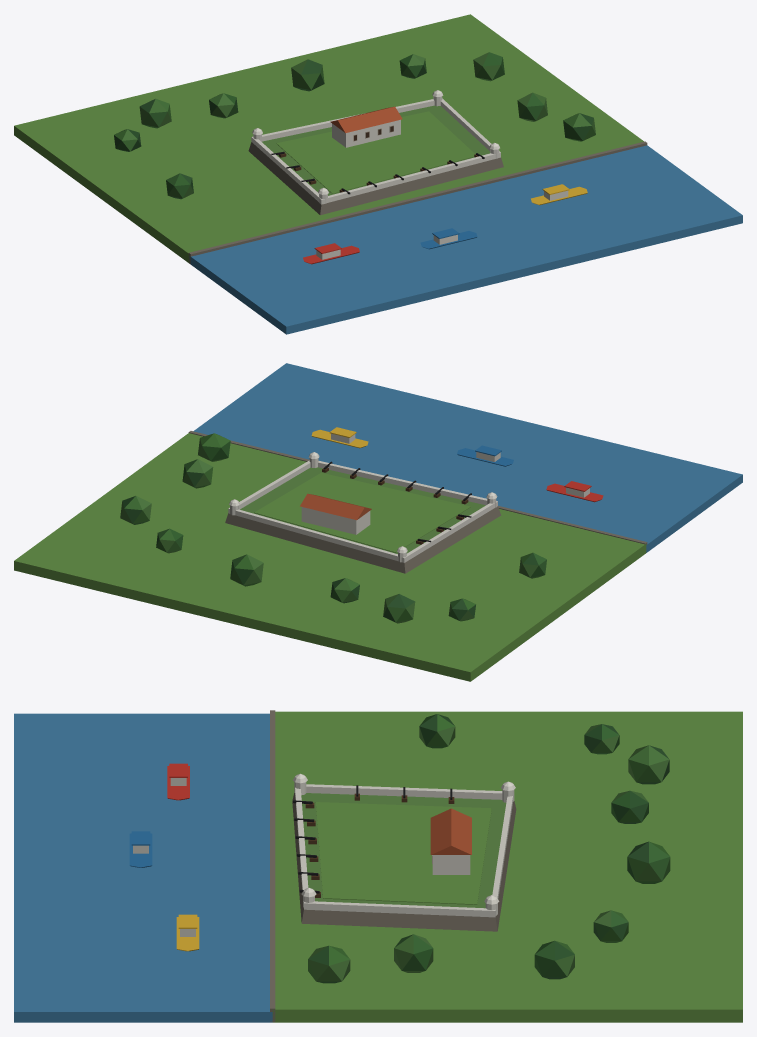
The model's file is forte_do_presepio.glb.
3 views of the same model, one above another, from view 1: azimuth 30°, elevation 25°; view 2: azimuth 150°, elevation 25°; view 3: azimuth 270°, elevation 25° (orthographic). The views are drawn at different scales.
Parts seen in each view (by area): view 1: forte_do_presepio; view 2: forte_do_presepio; view 3: forte_do_presepio.
Boxes of the visible parts, box(x1,y1,x2,y2) form: forte_do_presepio: box(14, 14, 742, 334); forte_do_presepio: box(14, 363, 742, 681); forte_do_presepio: box(14, 710, 742, 1022).
Size of the model in its own units: 150 by 13.2 by 155.
